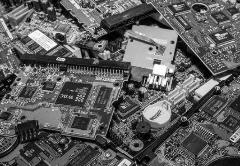electronic: (11, 45, 133, 162)
